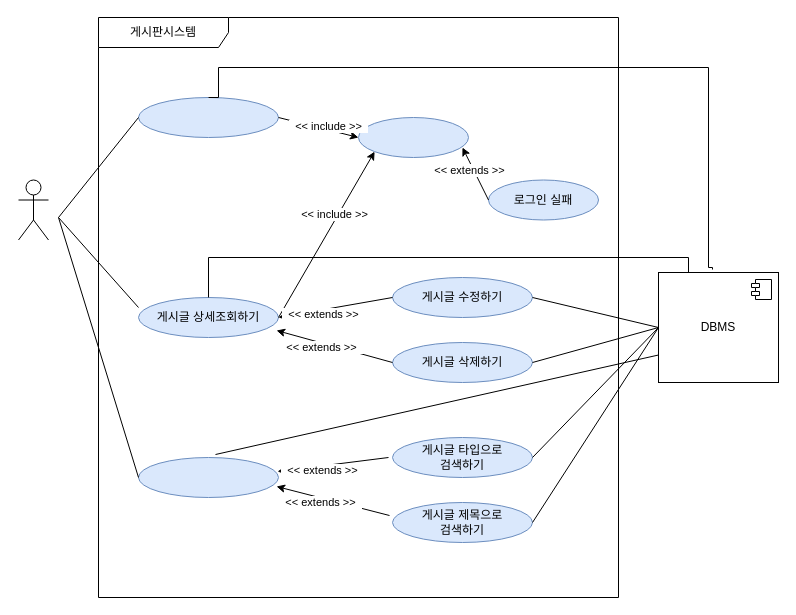
This 796x615 diagram has some shape labels left out. Each missing label, with the box of its shape:
게시글 쓰기: (138, 96, 278, 138)
로그인: (358, 116, 468, 158)
모든 게시글 조회하기: (138, 456, 278, 498)
사용자: (18, 179, 48, 240)
